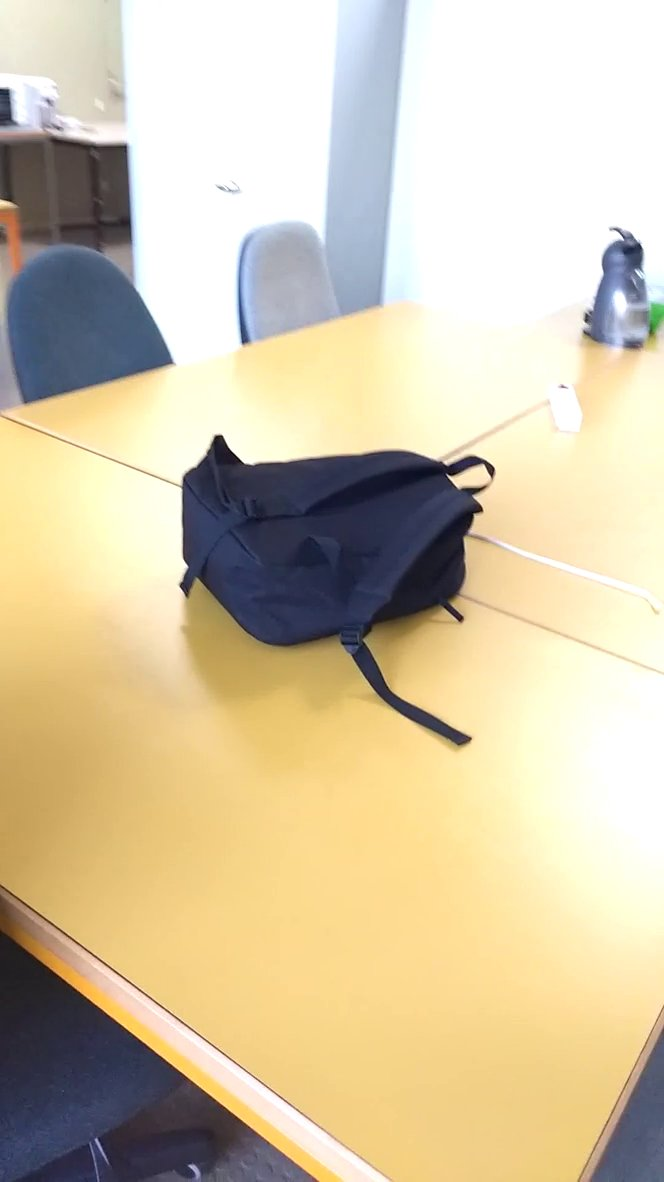bag: (162, 425, 503, 759)
chair: (1, 234, 190, 406), (232, 216, 355, 356)
